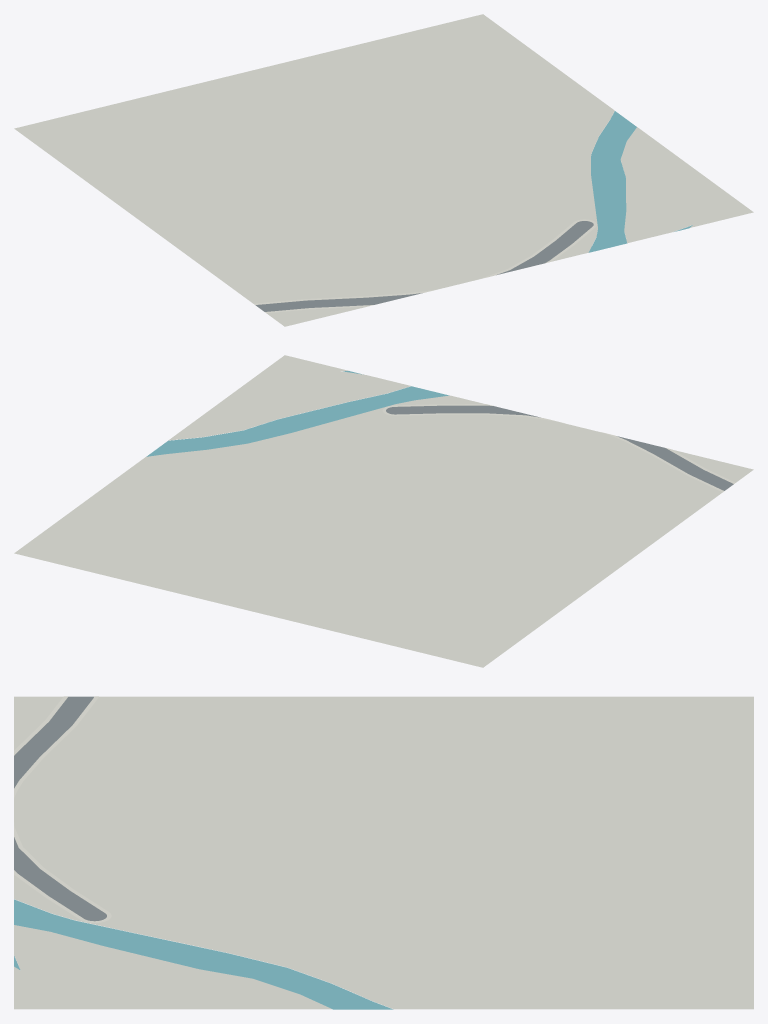
The picture shows the model from 3 angles, top to bottom: view 1: azimuth 30°, elevation 25°; view 2: azimuth 150°, elevation 25°; view 3: azimuth 270°, elevation 25°; orthographic projection. The views are drawn at different scales.
Visible parts, largest first — view 1: city; view 2: city; view 3: city.
Part boxes in pixels (x1,y1,x2,y2): city: (14, 14, 753, 326); city: (14, 355, 753, 667); city: (14, 696, 753, 1009).
Bounding box in the file's own units: 500 × 0.4 × 500.
